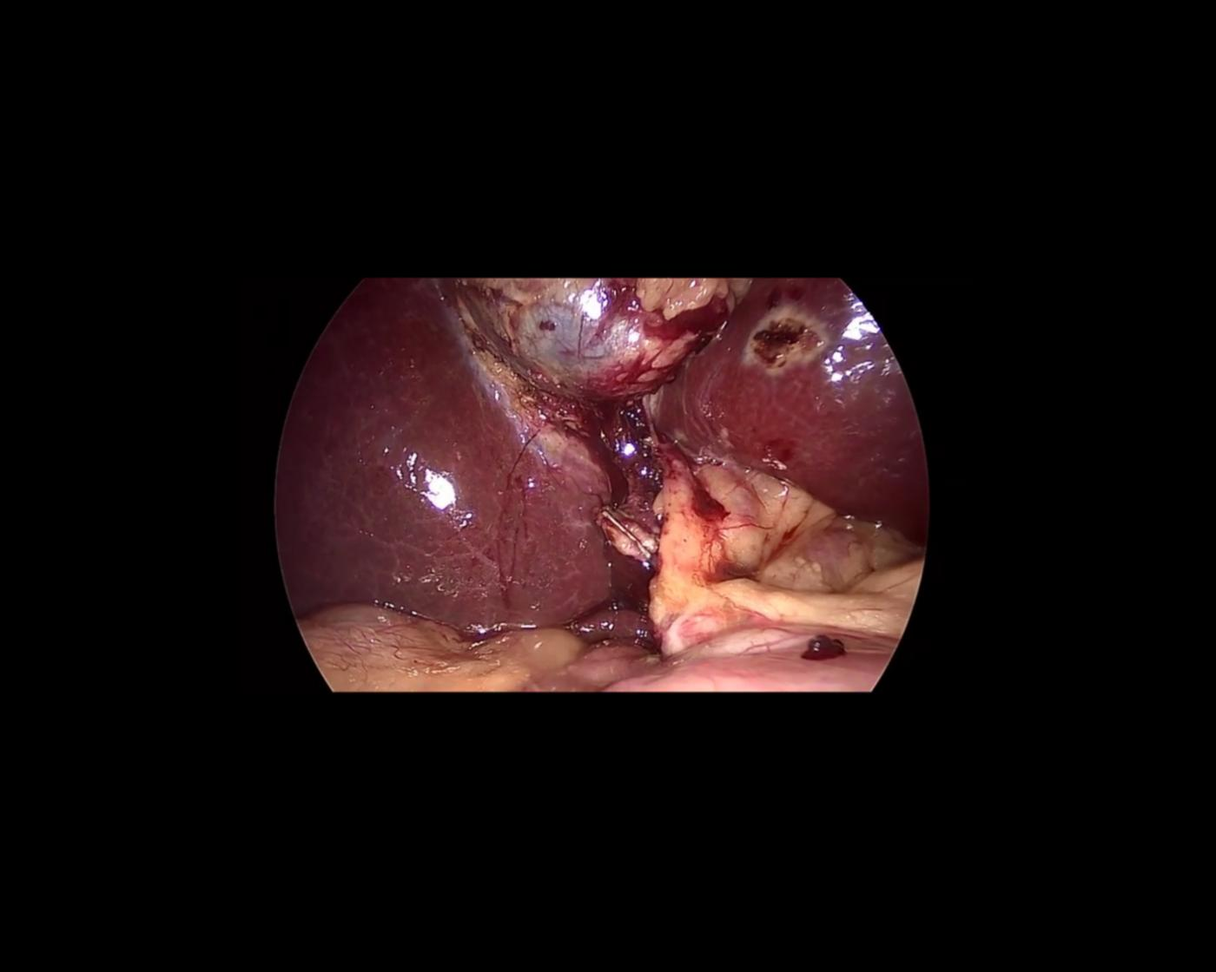Gallbladder: (440, 276, 750, 400)
Liver: (625, 238, 1010, 626), (276, 279, 610, 632)
